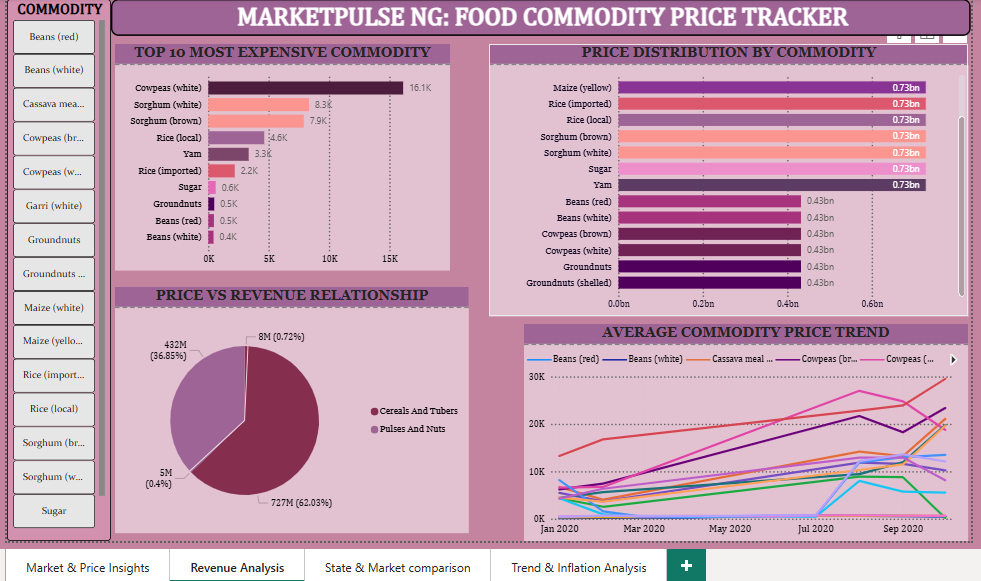

Layout of this report page (visuals, bound fields, positions):
{"tool":"powerbi","page":{"name":"Revenue Analysis","canvas":[1280,720],"ordinal":1},"visuals":[{"type":"barChart","title":"PRICE DISTRIBUTION BY COMMODITY","fields":{"Category":["Price.Commodity"],"Y":["Sum(Commodity.Revenue)"]},"box":[640,59.2,637.2,362],"z":0},{"type":"textbox","title":"MARKETPULSE NG:  FOOD COMMODITY PRICE TRACKER ","box":[138.2,0,1142.4,49.2],"z":1000},{"type":"pieChart","title":"PRICE VS REVENUE RELATIONSHIP","fields":{"Y":["Sum(Commodity.Price)","Sum(Commodity.Revenue)"],"Category":["Commodity.Category"]},"box":[143.5,382.6,470.3,326.8],"z":2000},{"type":"barChart","title":"TOP 10 MOST EXPENSIVE COMMODITY","fields":{"Category":["Commodity.Commodity"],"Y":["Commodity.Avg price bby commodity"]},"box":[143.1,59.2,444.6,301.4],"z":3000},{"type":"advancedSlicerVisual","title":"COMMODITY","fields":{"Values":["Commodity.Commodity"]},"box":[0,0,138.2,720],"z":4000},{"type":"lineChart","title":"AVERAGE COMMODITY PRICE TREND","fields":{"Category":["Price.Date.Variation.Date Hierarchy.Year","Price.Date.Variation.Date Hierarchy.Month"],"Y":["Price.Average price"],"Series":["Price.Commodity"]},"box":[687,431.7,589.6,288.9],"z":5000}]}

Visuals, with their boxes on the page's 1280x720 design canvas (x1, y1, x2, y2). These are canvas units, not pixel positions in the 981x581 screenshot, which may show the page scaled, cropped or inside an application window:
"PRICE DISTRIBUTION BY COMMODITY" barChart: <box>640,59,1277,421</box>
"MARKETPULSE NG:  FOOD COMMODITY PRICE TRACKER " textbox: <box>138,0,1281,49</box>
"PRICE VS REVENUE RELATIONSHIP" pieChart: <box>144,383,614,709</box>
"TOP 10 MOST EXPENSIVE COMMODITY" barChart: <box>143,59,588,361</box>
"COMMODITY" advancedSlicerVisual: <box>0,0,138,720</box>
"AVERAGE COMMODITY PRICE TREND" lineChart: <box>687,432,1277,721</box>
